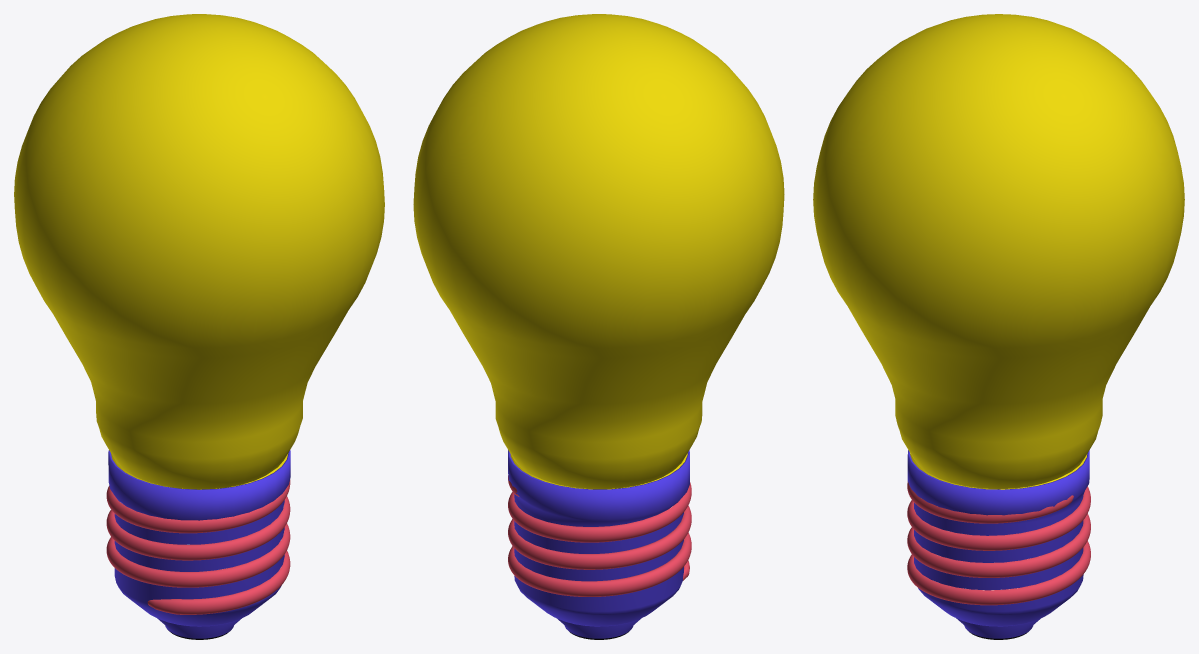
The model's file is FocoBien2.fbx.
3 views of the same model, side by side, from view 1: azimuth 30°, elevation 25°; view 2: azimuth 150°, elevation 25°; view 3: azimuth 270°, elevation 25° (orthographic).
Parts seen in each view (by area): view 1: Foco; view 2: Foco; view 3: Foco.
Part boxes in pixels (box(x1,y1,x2,y2)): Foco: box(14, 14, 384, 639); Foco: box(413, 14, 784, 639); Foco: box(813, 14, 1184, 639).
Bounding box in the file's own units: 330 × 588 × 330.
